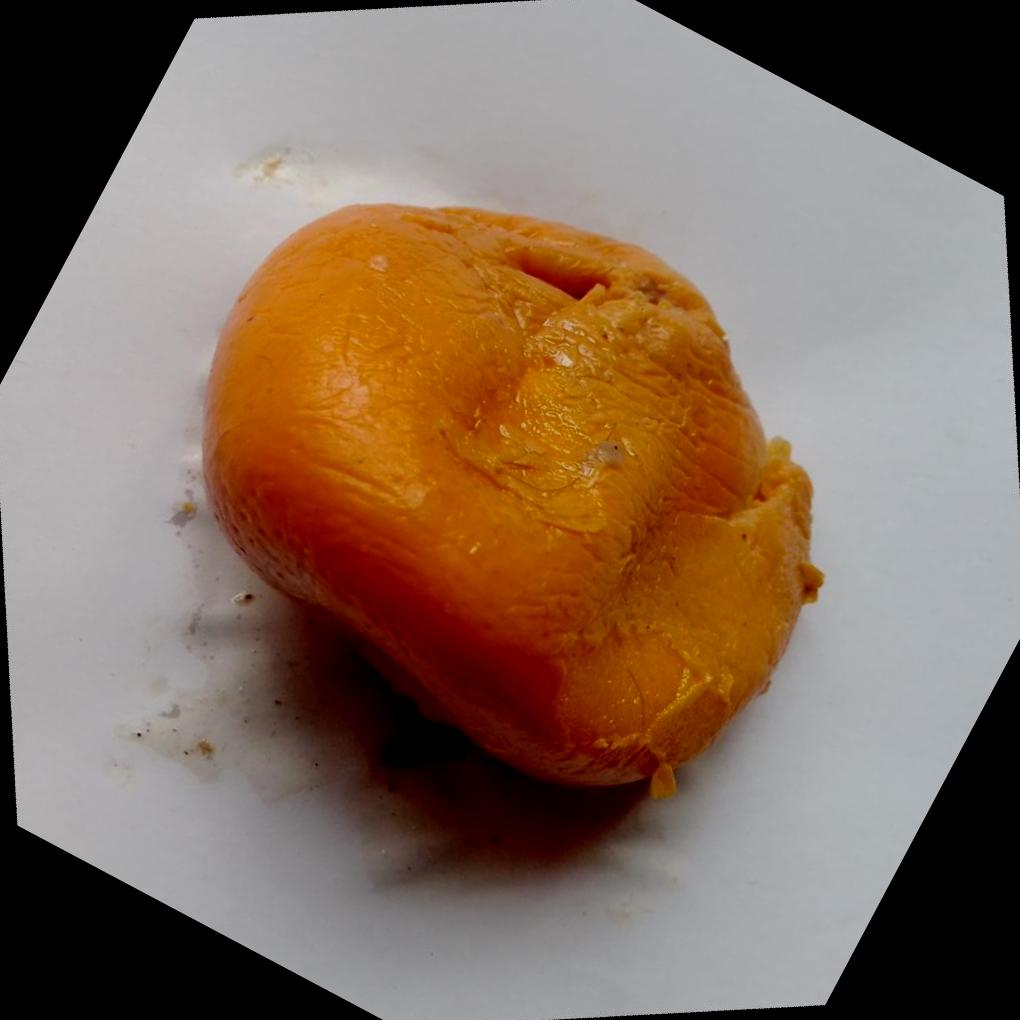FreshOrange: (198, 201, 827, 802)
